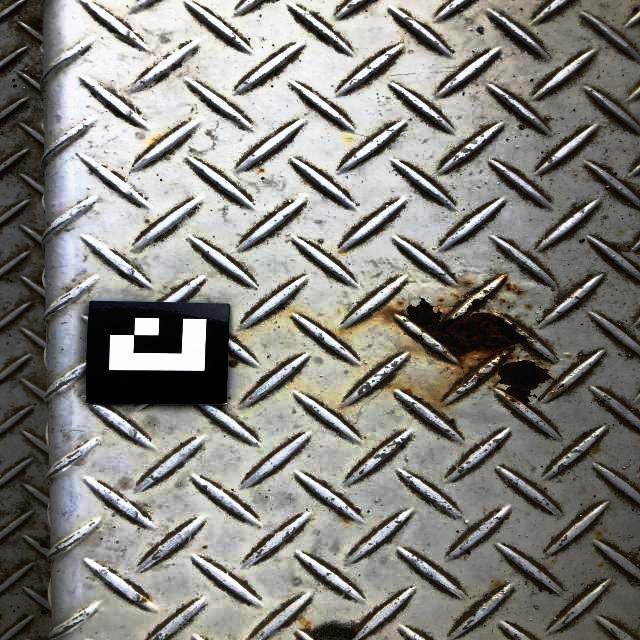Corrosion: (397, 289, 565, 407), (498, 274, 523, 296), (465, 281, 473, 285), (439, 298, 444, 302)
